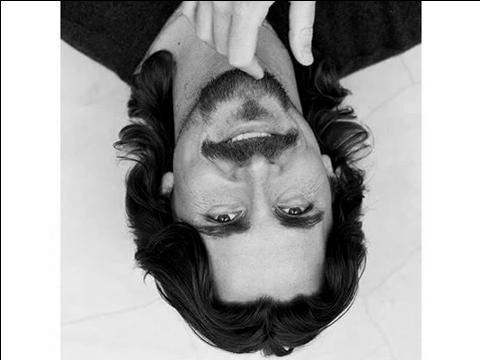bar: (197, 69, 288, 122), (202, 125, 297, 166)
